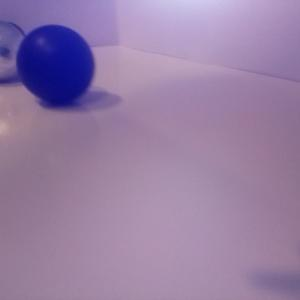alive_ball: (1, 20, 28, 79)
dead_ball: (16, 24, 94, 101)
